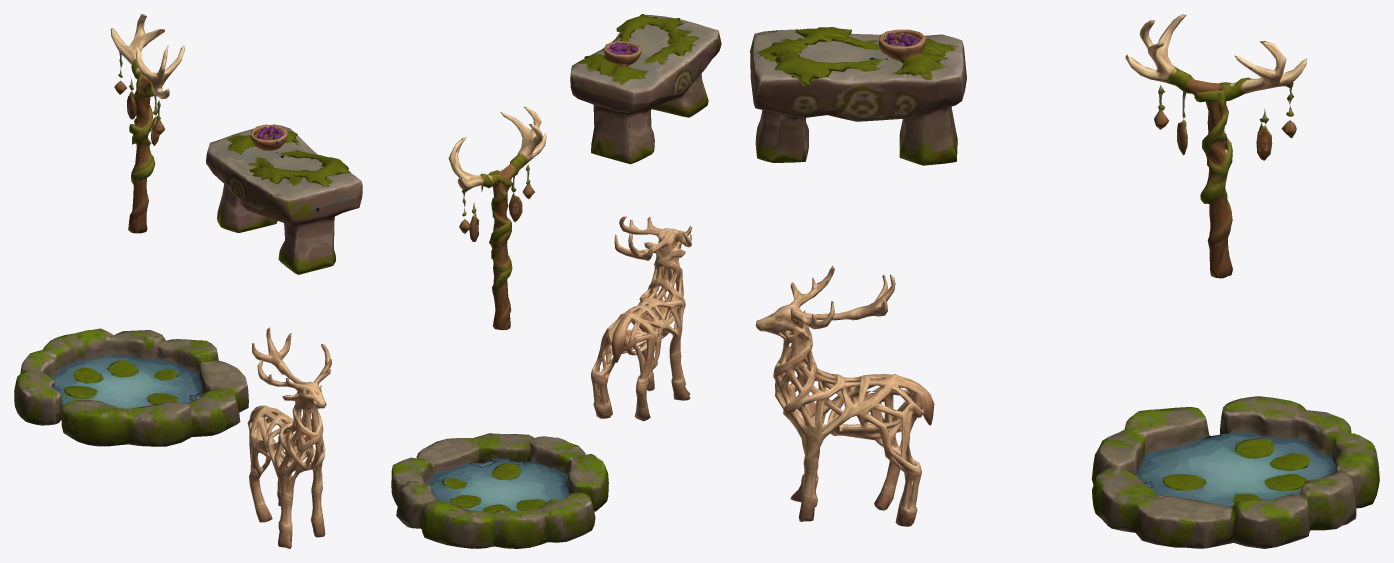
3 views of the same model, side by side, from view 1: azimuth 30°, elevation 25°; view 2: azimuth 150°, elevation 25°; view 3: azimuth 270°, elevation 25° (orthographic). The views are drawn at different scales.
Visible parts, largest first — view 1: world; view 2: world; view 3: world.
Part boxes in pixels (bbox=[...]): world: bbox=[14, 14, 362, 548]; world: bbox=[391, 14, 721, 548]; world: bbox=[750, 14, 1379, 548].
Size of the model in its own units: 0.4514 by 0.8607 by 0.993.
Materials: 1 (1 with a texture image).
